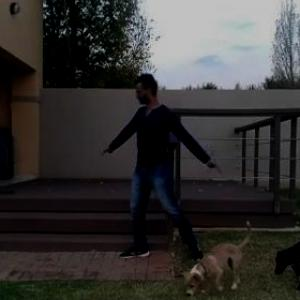land: (100, 71, 231, 261)
